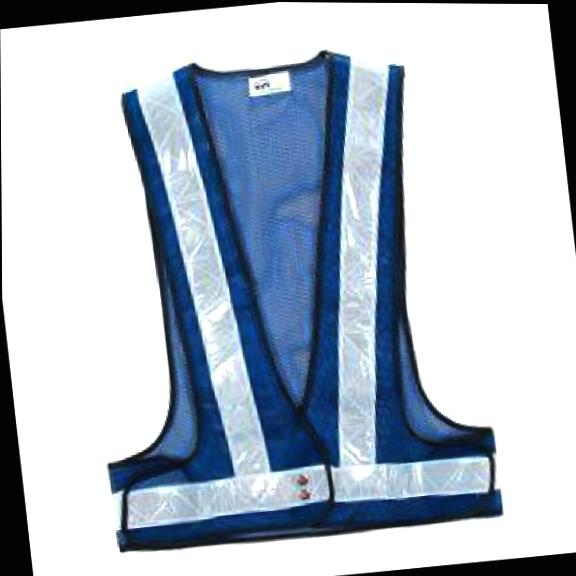safety_vest: (60, 28, 508, 559)
